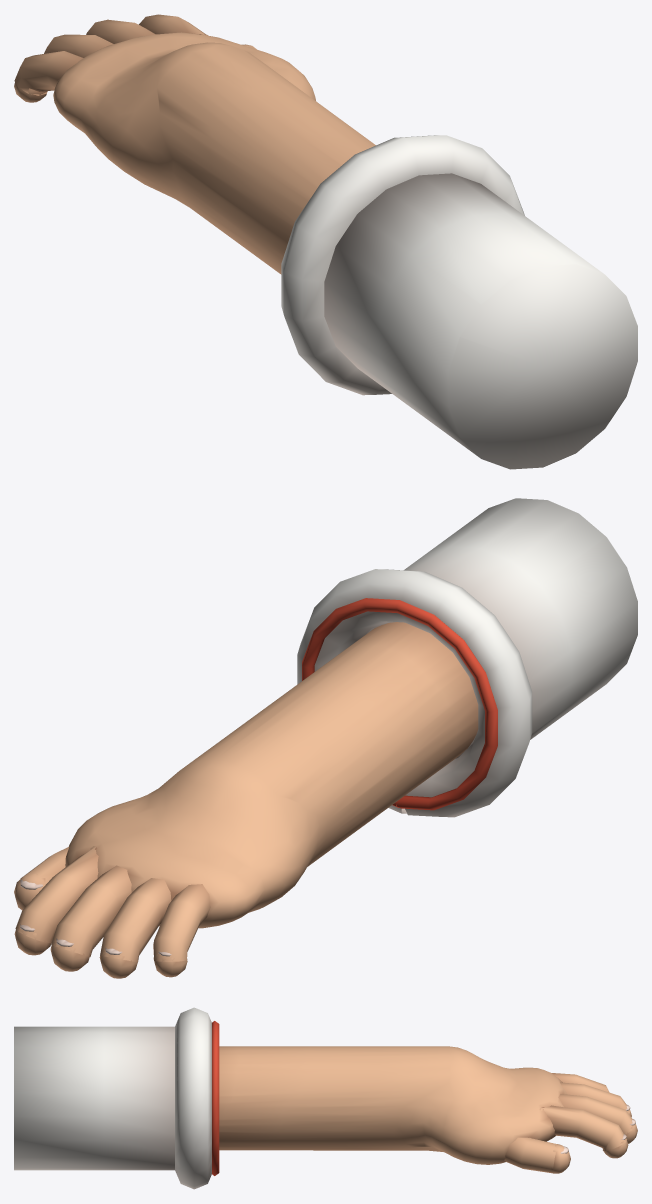
Rendered from fp-hand-left.gltf.
3 renders of one model, top to bottom at view 1: azimuth 30°, elevation 25°; view 2: azimuth 150°, elevation 25°; view 3: azimuth 270°, elevation 25°, orthographic. The views are drawn at different scales.
Visible parts, largest first — view 1: model; view 2: model; view 3: model.
Boxes of the visible parts, <box> form: model: <box>14,14,637,469</box>; model: <box>14,498,637,978</box>; model: <box>14,1007,637,1189</box>.
Bounding box in the file's own units: 0.1611 × 0.1518 × 0.5191.
